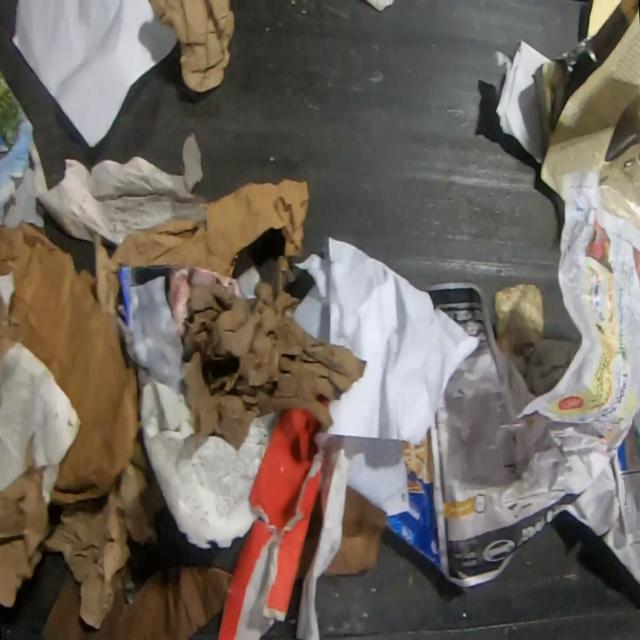cardboard: (0, 219, 138, 506), (93, 178, 310, 316), (39, 426, 168, 628), (216, 408, 327, 639), (38, 560, 232, 640), (145, 0, 238, 93), (385, 426, 444, 572), (0, 464, 51, 610), (322, 484, 386, 574), (296, 489, 322, 579)
